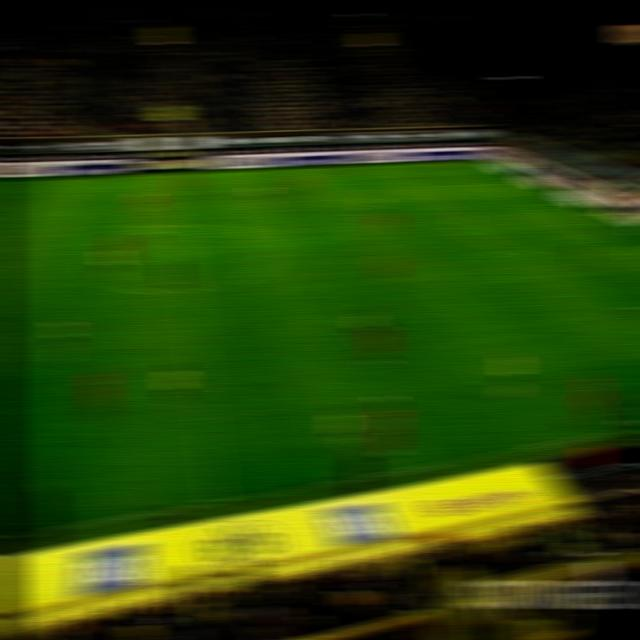bigarea_bottom_inner: (607, 303, 632, 315)
bigarea_top_inner: (415, 181, 441, 193)
bigarea_top_outter: (512, 175, 538, 186)
bottom_arc_area_intersection: (520, 246, 546, 258)
corner: (468, 156, 495, 169)
halfcircle_bottom: (175, 284, 202, 298)
halfcircle_top: (167, 219, 194, 231)
midline_bottom_intersection: (200, 491, 234, 515)
midline_top_intersection: (161, 168, 186, 180)
smallarea_bottom_inner: (618, 248, 640, 259)
smallarea_top_inner: (524, 198, 550, 210)
smallarea_top_outter: (558, 197, 584, 208)
top_arc_area_intersection: (458, 208, 483, 220)
